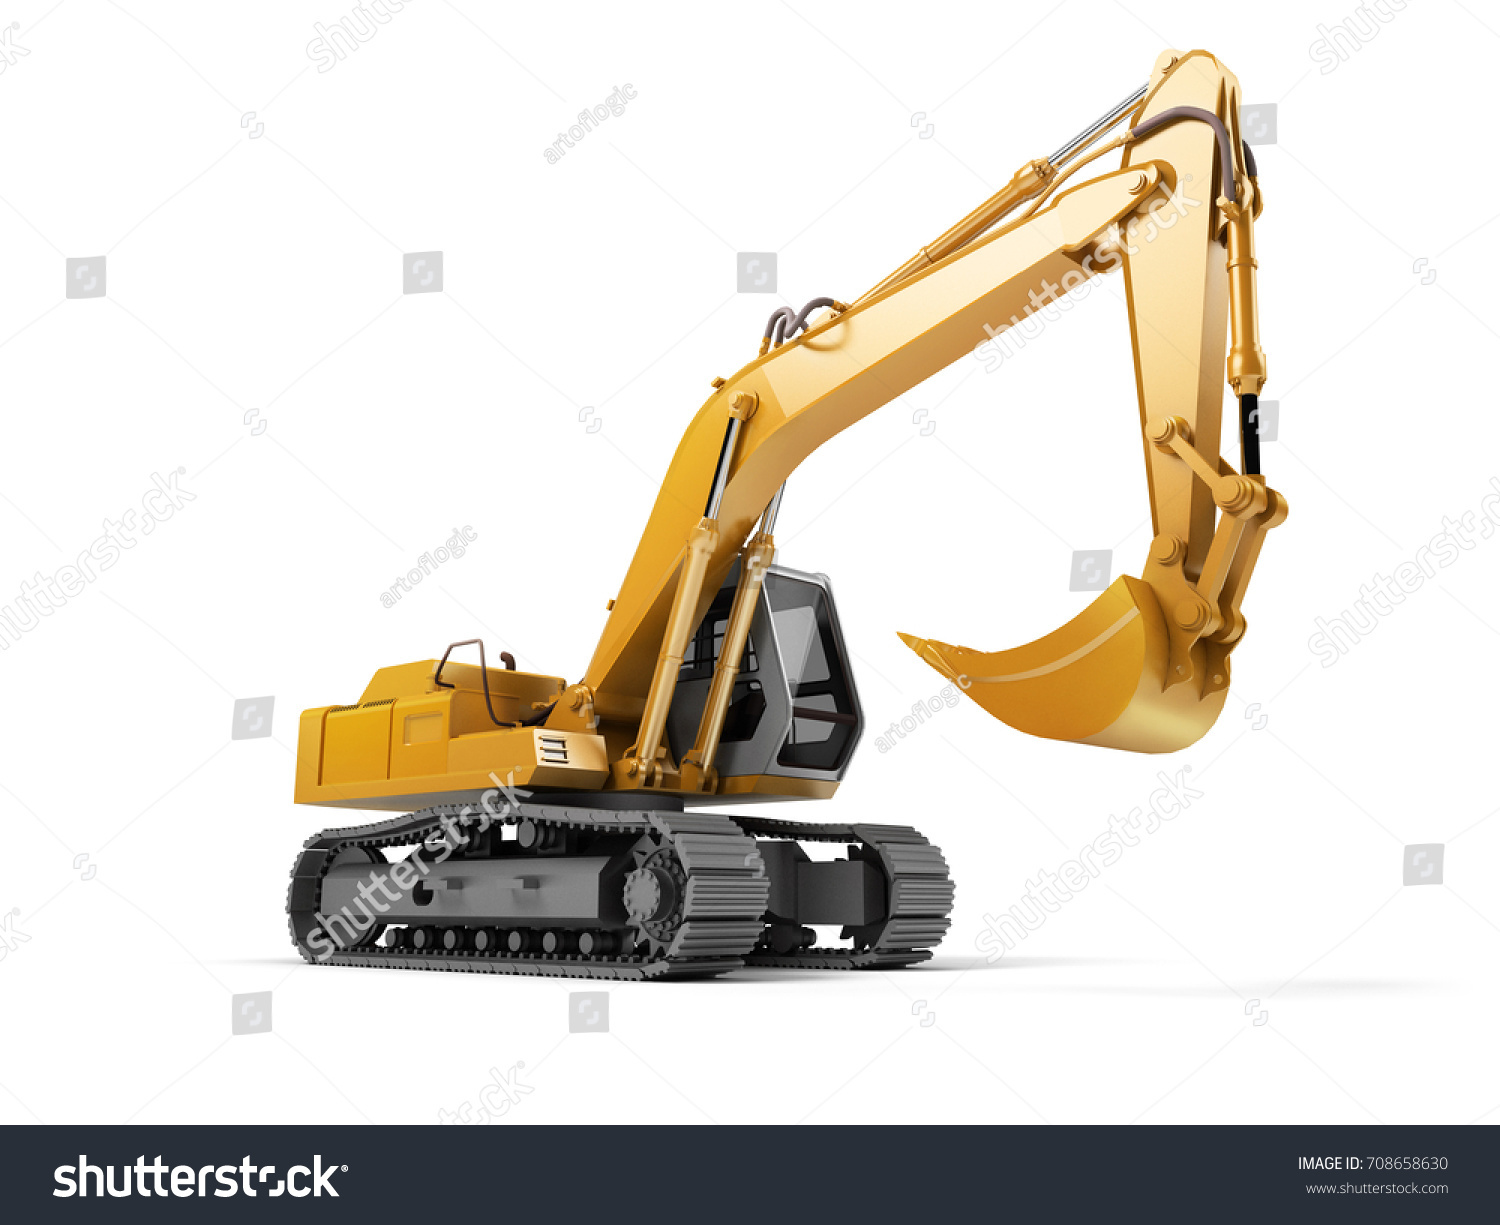backhoe: (260, 49, 1319, 1012)
